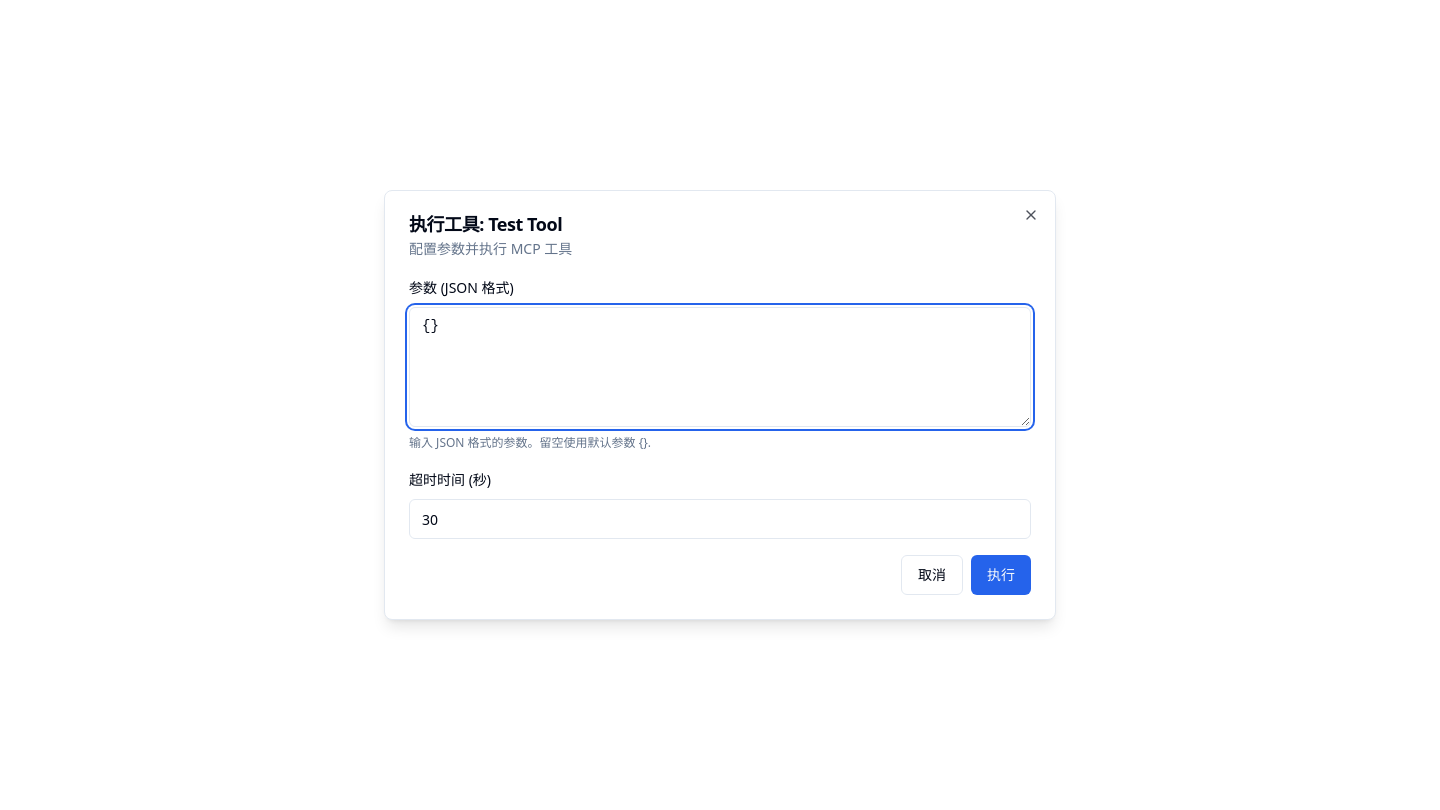
ExecutionModal › should provide download options for results
Click the button "执行".
click(1001, 575)  # box left=971, top=555, right=1031, bottom=595
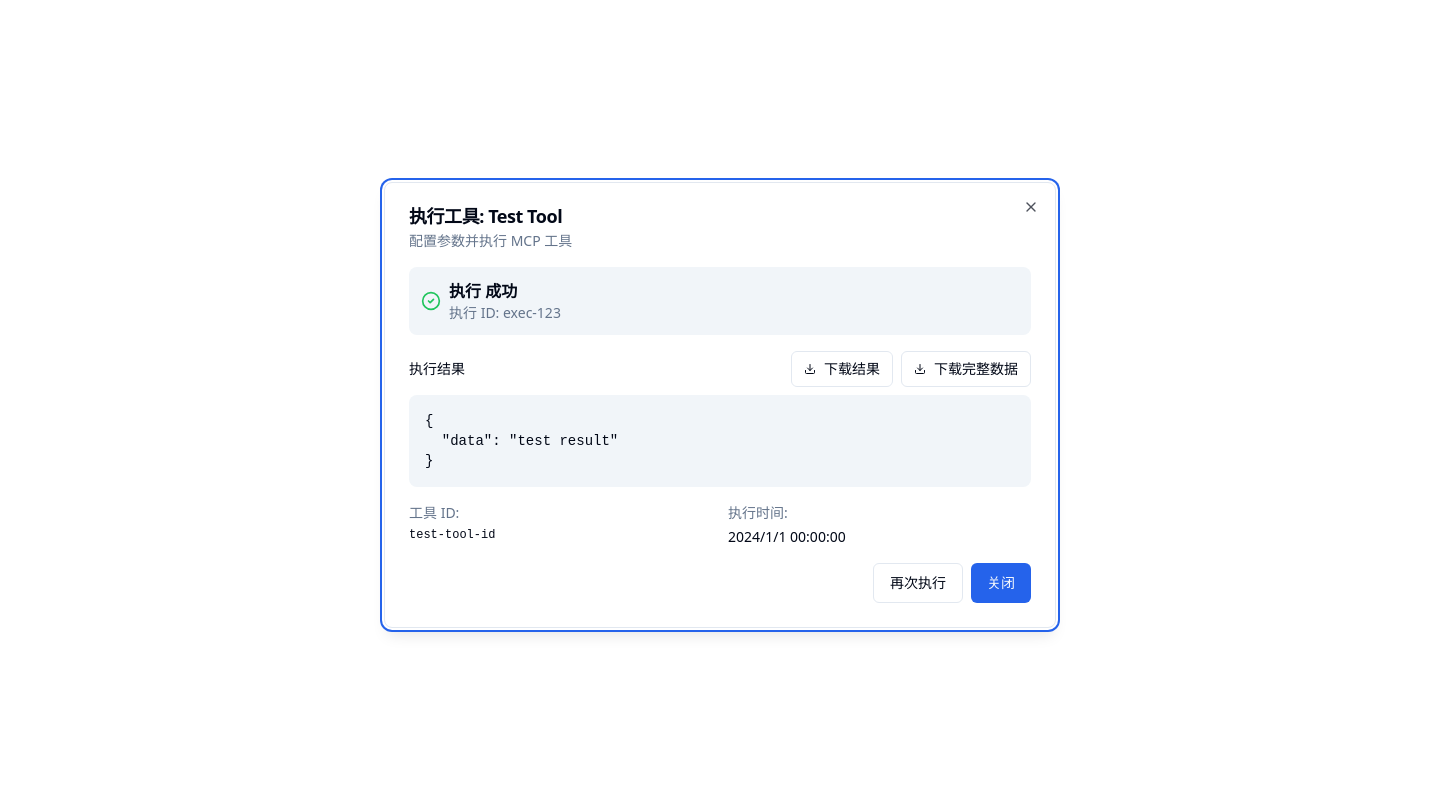
Now the button "下载结果" is shown, box left=791, top=351, right=893, bottom=387
Now the button "下载完整数据" is shown, box left=901, top=351, right=1031, bottom=387
